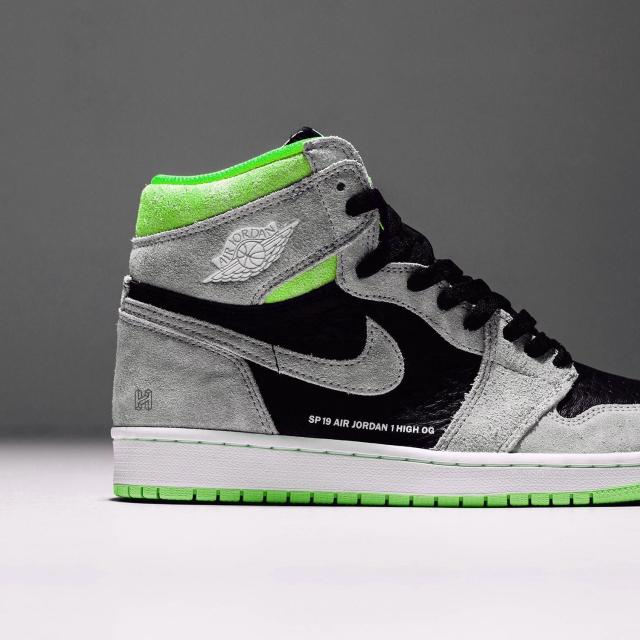shoe: (107, 124, 640, 534)
